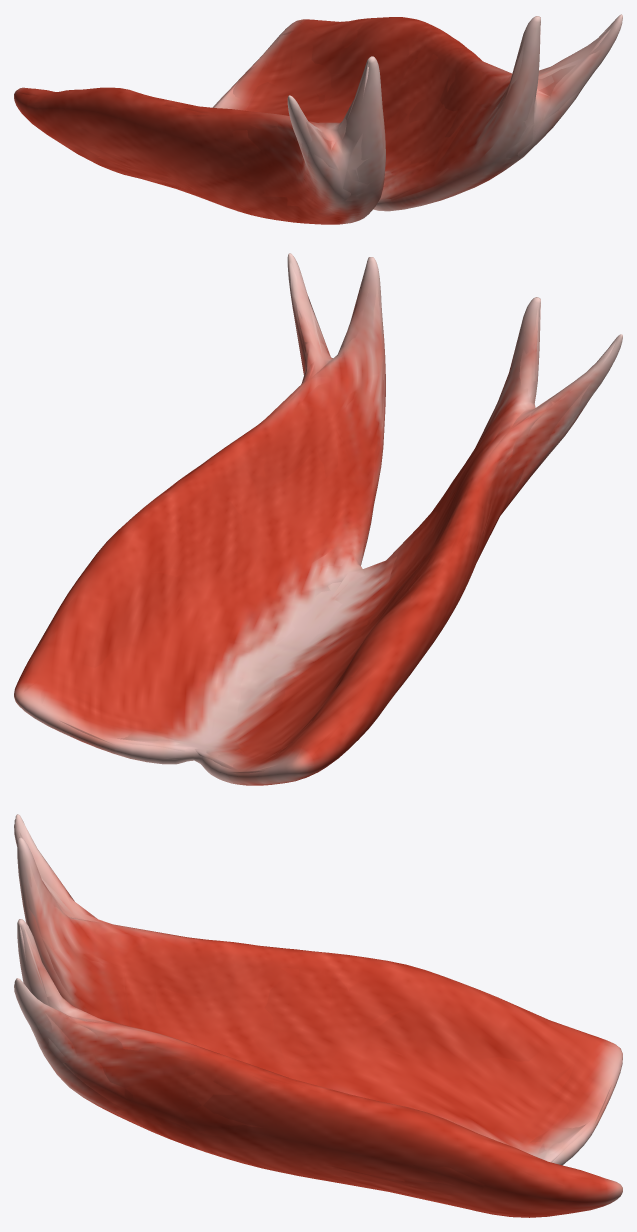
File: Pectoralis ascendens.fbx
The picture shows the model from 3 angles, top to bottom: view 1: azimuth 30°, elevation 25°; view 2: azimuth 150°, elevation 25°; view 3: azimuth 270°, elevation 25°; orthographic projection.
Visible parts, largest first — view 1: Pectoralis ascendens, Pectoralis ascendens low; view 2: Pectoralis ascendens, Pectoralis ascendens low; view 3: Pectoralis ascendens, Pectoralis ascendens low.
Boxes of the visible parts, x1,y1,x2,y2 form: Pectoralis ascendens: (14,14,622,224); Pectoralis ascendens low: (14,18,616,218); Pectoralis ascendens: (14,253,622,785); Pectoralis ascendens low: (19,262,615,773); Pectoralis ascendens: (14,814,622,1217); Pectoralis ascendens low: (15,822,615,1213).
Size of the model in its own units: 33.64 by 29.32 by 52.43.
